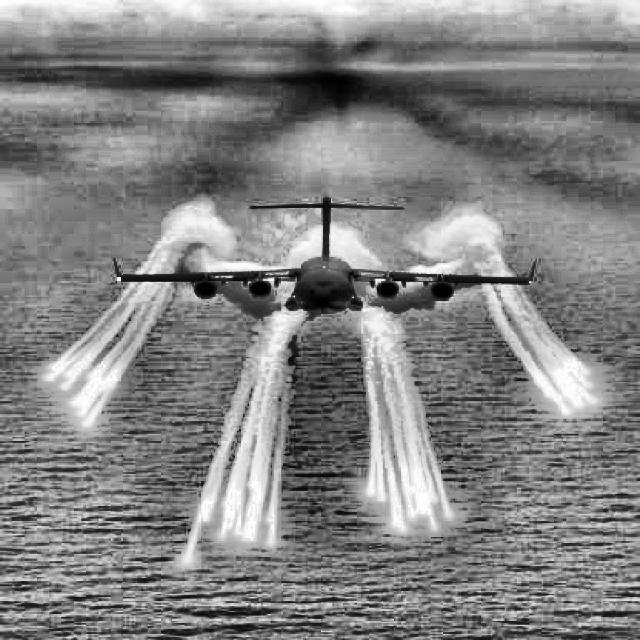C17: (112, 195, 536, 314)
